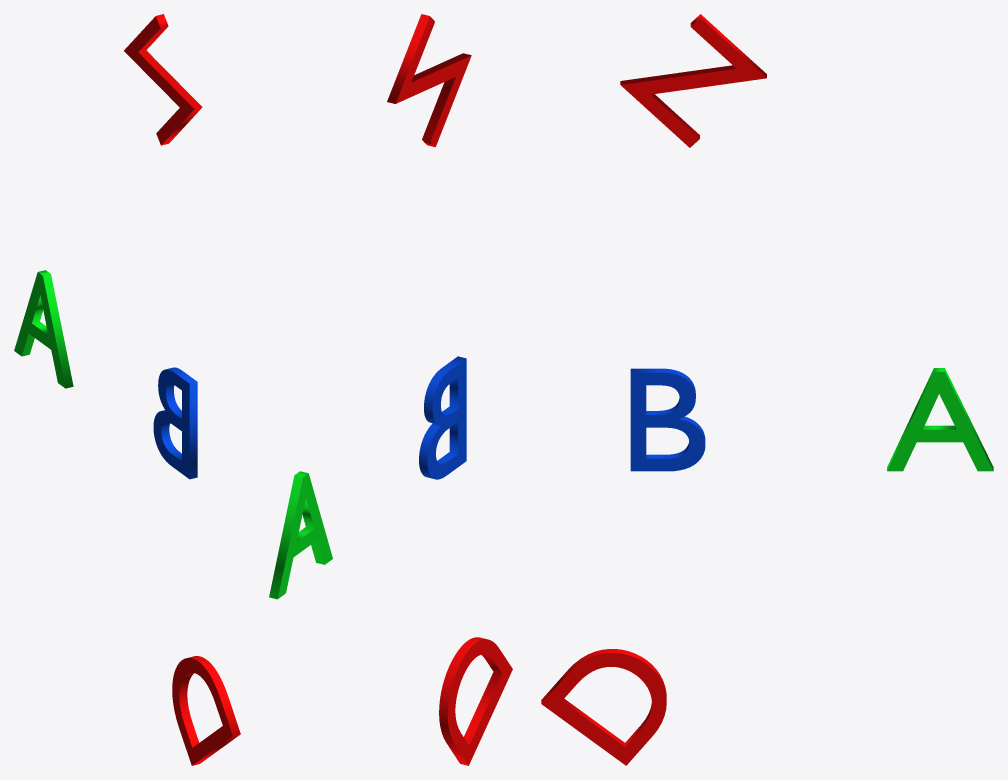
The model's file is fridgeletter.glb.
3 renders of one model, left to right at view 1: azimuth 30°, elevation 25°; view 2: azimuth 150°, elevation 25°; view 3: azimuth 270°, elevation 25°, orthographic. The views are drawn at different scales.
Parts seen in each view (by area): view 1: fridgeletter; view 2: fridgeletter; view 3: fridgeletter.
Boxes of the visible parts, bbox=[...] form: fridgeletter: bbox=[14, 14, 240, 765]; fridgeletter: bbox=[269, 14, 512, 765]; fridgeletter: bbox=[541, 14, 993, 765].
Bounding box in the file's own units: 0.00389 × 0.3346 × 0.1834.
